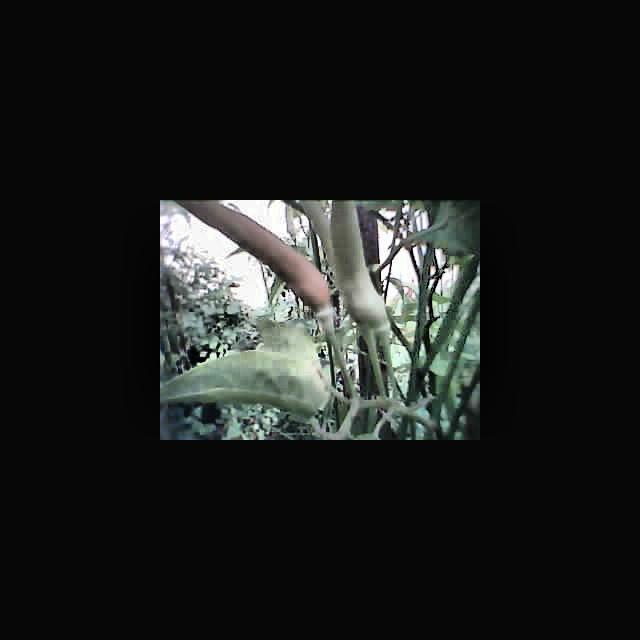Cabai: (198, 200, 334, 314)
